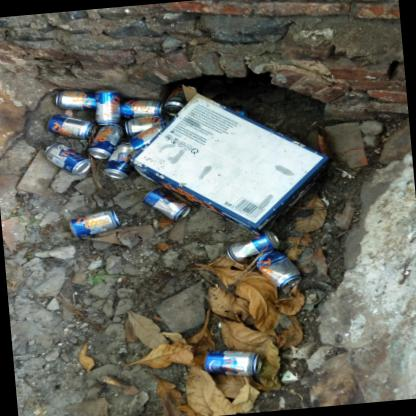Metal: (254, 249, 302, 289), (226, 231, 278, 262), (141, 189, 190, 221), (202, 350, 261, 376), (68, 210, 119, 238), (44, 144, 90, 175), (87, 125, 123, 160), (103, 143, 138, 179), (47, 114, 95, 139), (128, 123, 164, 152), (94, 90, 120, 125), (125, 116, 168, 137), (120, 99, 164, 119), (55, 90, 94, 110), (163, 90, 184, 116), (287, 281, 296, 287), (88, 129, 94, 133), (225, 255, 229, 259), (181, 211, 184, 215)
Paper: (129, 85, 328, 236)
